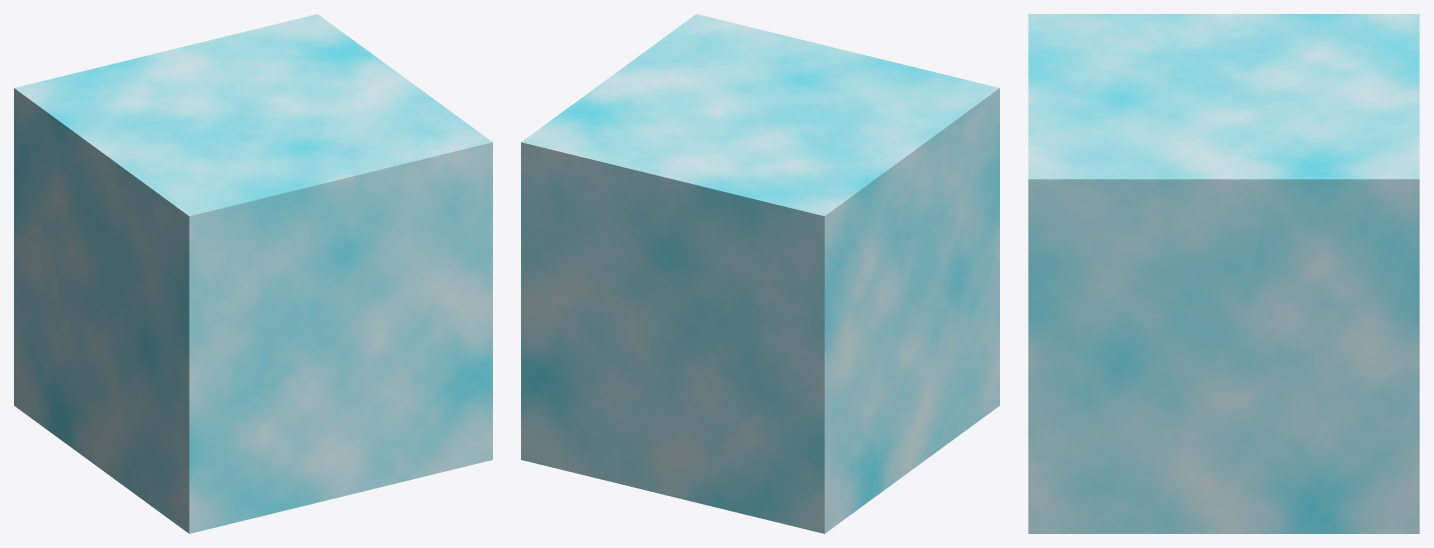
3 renders of one model, left to right at view 1: azimuth 30°, elevation 25°; view 2: azimuth 150°, elevation 25°; view 3: azimuth 270°, elevation 25°, orthographic. The views are drawn at different scales.
Parts seen in each view (by area): view 1: side_left, side_back, skyplane; view 2: side_right, side_back, skyplane; view 3: side_front, skyplane.
Part boxes in pixels (box(x1,y1,x2,y2)): side_left: box(189, 142, 492, 533); side_back: box(14, 88, 189, 533); skyplane: box(14, 14, 492, 216); side_right: box(521, 142, 824, 533); side_back: box(824, 88, 999, 533); skyplane: box(521, 14, 999, 216); side_front: box(1028, 179, 1419, 533); skyplane: box(1028, 14, 1419, 179).
Size of the model in its own units: 100 by 100 by 100.
